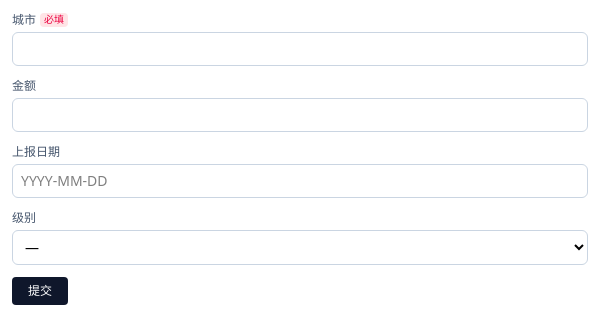
Test: FormRuntime（public 态：公开 submit 端点） › 公开提交缺省文案：spec.successMessage 兜底（响应无 message 时）
Expected: the button with test id "form-submit" reads "提交", [12, 277, 68, 305]
In the field with test id "form-field-input" showing "城市 必填": (300, 49) [12, 32, 588, 66], type "京"
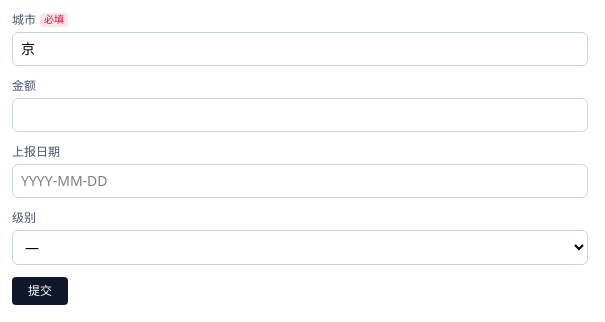
Click the button with test id "form-submit": (40, 291) [12, 277, 68, 305]
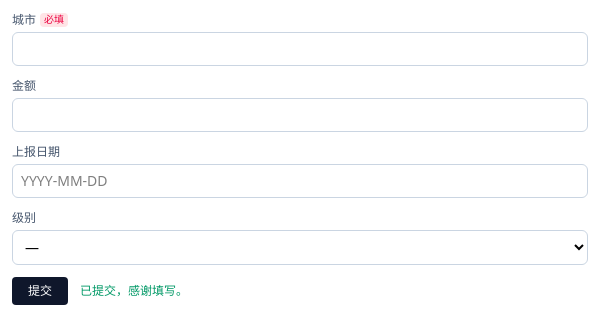
Expected: the text with test id "form-success" shows "已提交", [80, 282, 188, 299]
